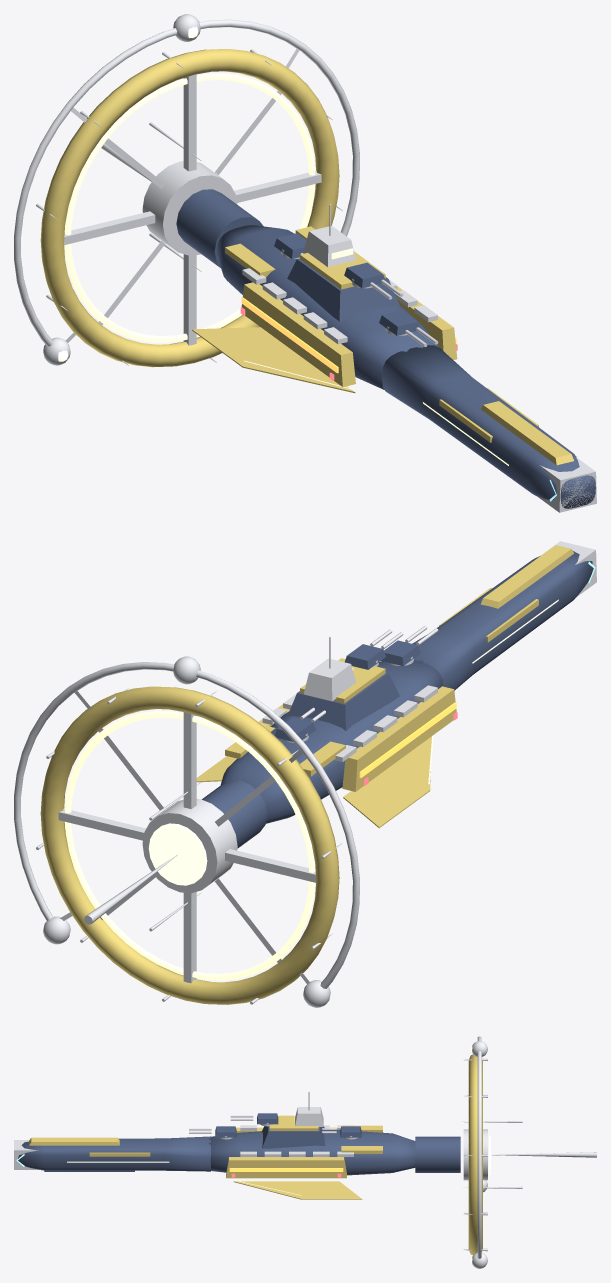
The model's file is hss.glb.
The picture shows the model from 3 angles, top to bottom: view 1: azimuth 30°, elevation 25°; view 2: azimuth 150°, elevation 25°; view 3: azimuth 270°, elevation 25°; orthographic projection. The views are drawn at different scales.
Visible parts, largest first — view 1: hss; view 2: hss; view 3: hss.
Boxes of the visible parts, bbox=[...] form: hss: bbox=[14, 14, 596, 512]; hss: bbox=[14, 541, 596, 1007]; hss: bbox=[14, 1036, 596, 1268].
Size of the model in its own units: 31.39 by 29.95 by 77.
